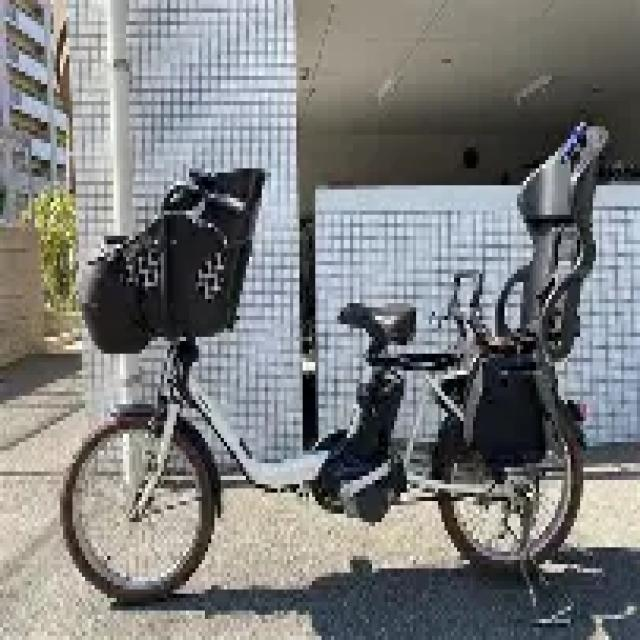battery: (353, 367, 401, 463)
childseat: (458, 120, 613, 462), (83, 161, 269, 351)
